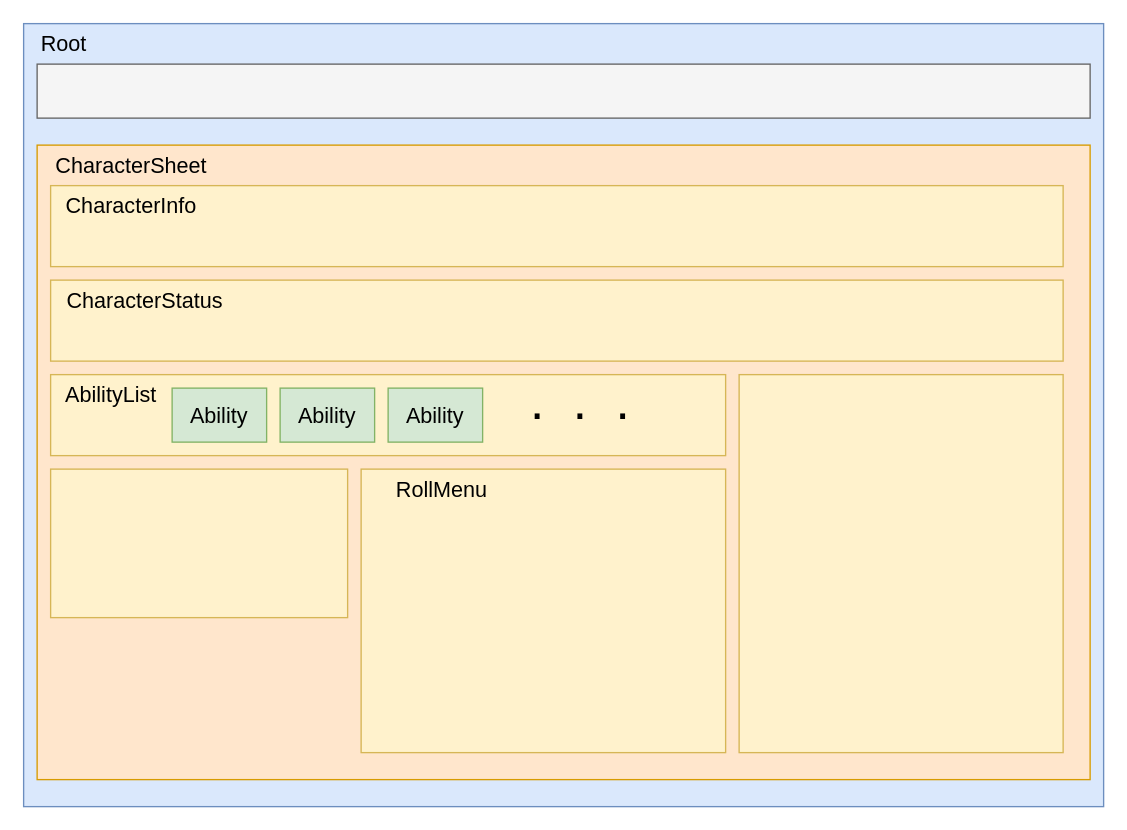
This 1127x830 diagram has some shape labels left out. Here are the shapes that lost their labels. From the top down, the centre of each, then its label:
the point at 563,90: Navigation
the point at 198,543: MiscMenu
the point at 900,563: TabMenu
